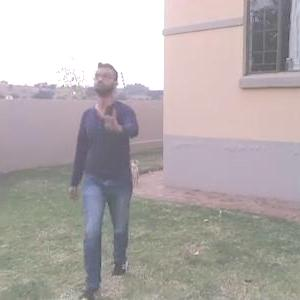takeoff-hand: (93, 105, 128, 140)
